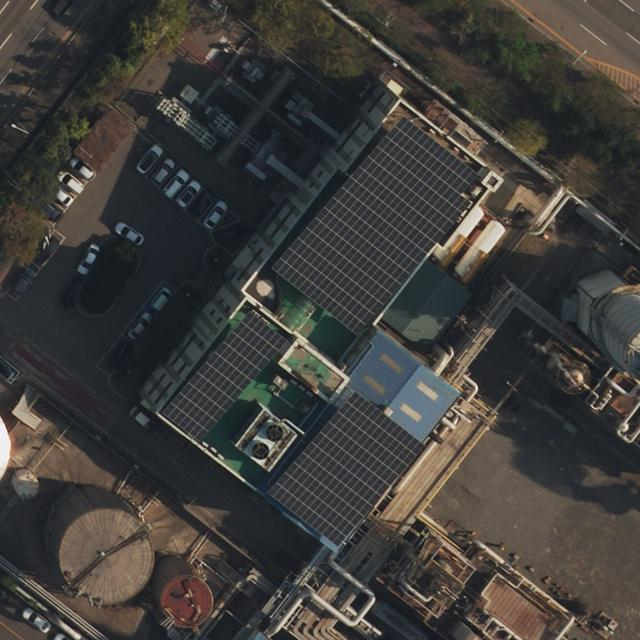solarpanel: (269, 117, 479, 338), (266, 391, 428, 548), (159, 310, 290, 445)
